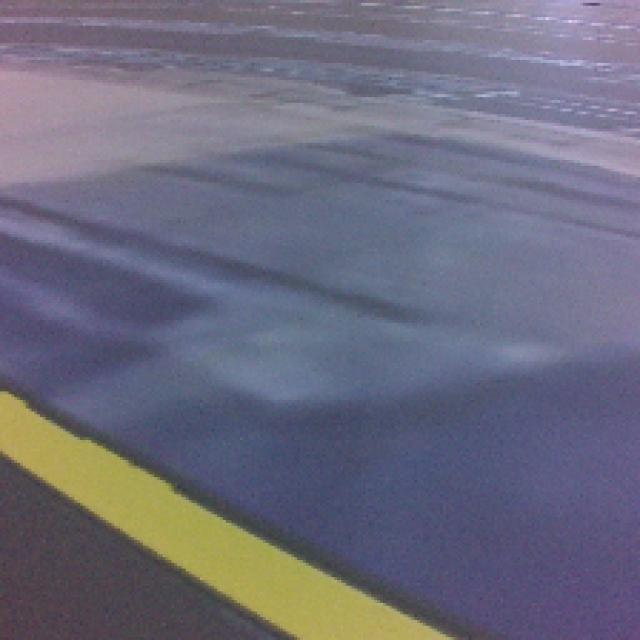Pedestrian crosswalk: (0, 388, 447, 640)
